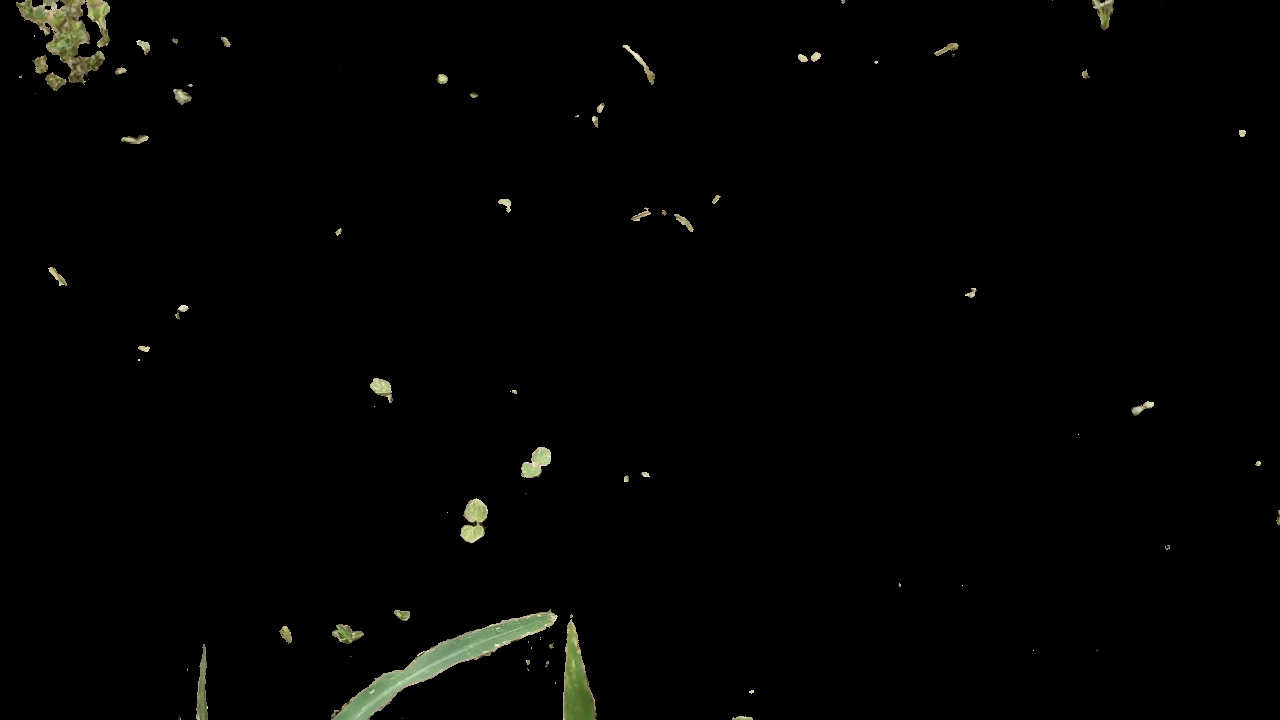crop: (166, 594, 551, 720), (559, 608, 618, 720)
weed: (1, 1, 129, 101), (461, 495, 505, 549), (519, 441, 561, 481), (323, 615, 369, 648), (362, 374, 398, 414), (792, 45, 831, 67)
